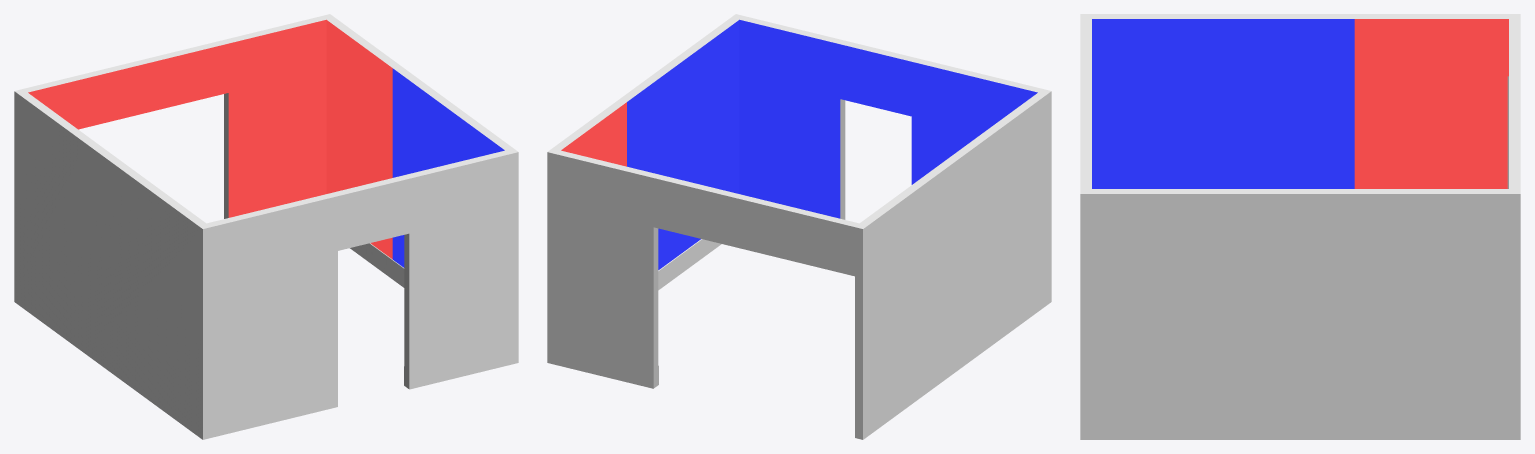
File: BathRoom_UV2Set.fbx
3 views of the same model, side by side, from view 1: azimuth 30°, elevation 25°; view 2: azimuth 150°, elevation 25°; view 3: azimuth 270°, elevation 25° (orthographic). The views are drawn at different scales.
Visible parts, largest first — view 1: Sweep, DoorBoolCutout, DoorBoolCutout_1; view 2: Sweep, DoorBoolCutout_1, DoorBoolCutout; view 3: Sweep.
Part boxes in pixels (left/top/right/bottom): Sweep: left=14, top=14, right=518, bottom=439; DoorBoolCutout: left=404, top=233, right=409, bottom=388; DoorBoolCutout_1: left=224, top=93, right=228, bottom=218; Sweep: left=547, top=14, right=1051, bottom=439; DoorBoolCutout_1: left=653, top=227, right=658, bottom=388; DoorBoolCutout: left=840, top=99, right=845, bottom=219; Sweep: left=1080, top=14, right=1520, bottom=439.
Size of the model in its own units: 557 by 355 by 576.
